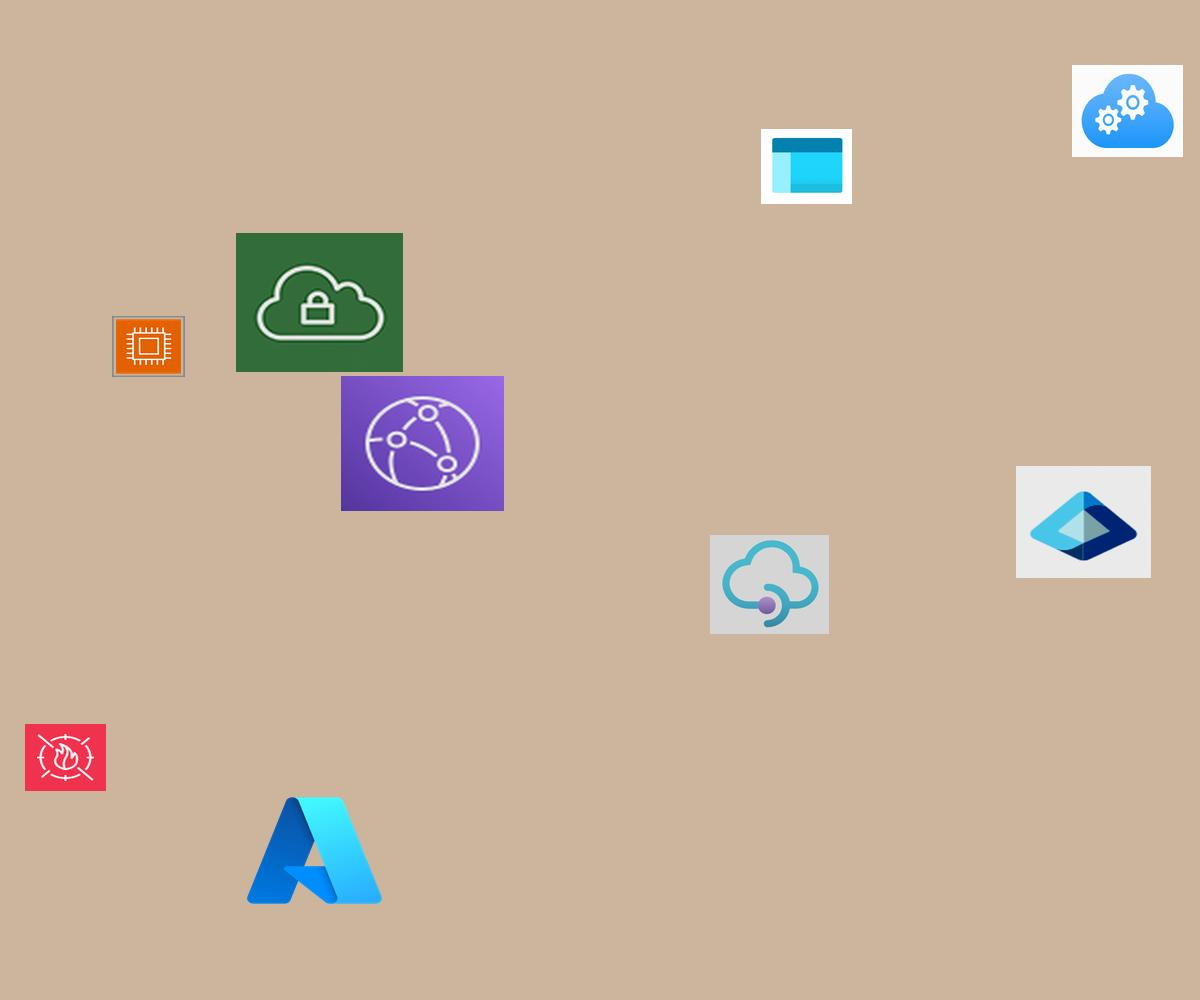AWS-Category_Compute: (112, 316, 185, 377)
AWS-CloudFront: (341, 376, 504, 511)
AWS-Private_vpc: (236, 233, 403, 372)
AWS-WAF: (25, 724, 106, 791)
Azure_api_gateway: (710, 535, 829, 634)
Azure_cloud_services: (1072, 65, 1183, 157)
Azure_management-portal: (761, 129, 852, 204)
Azure_microsoft_entra: (1016, 466, 1151, 578)
Azure_services: (241, 789, 388, 912)
